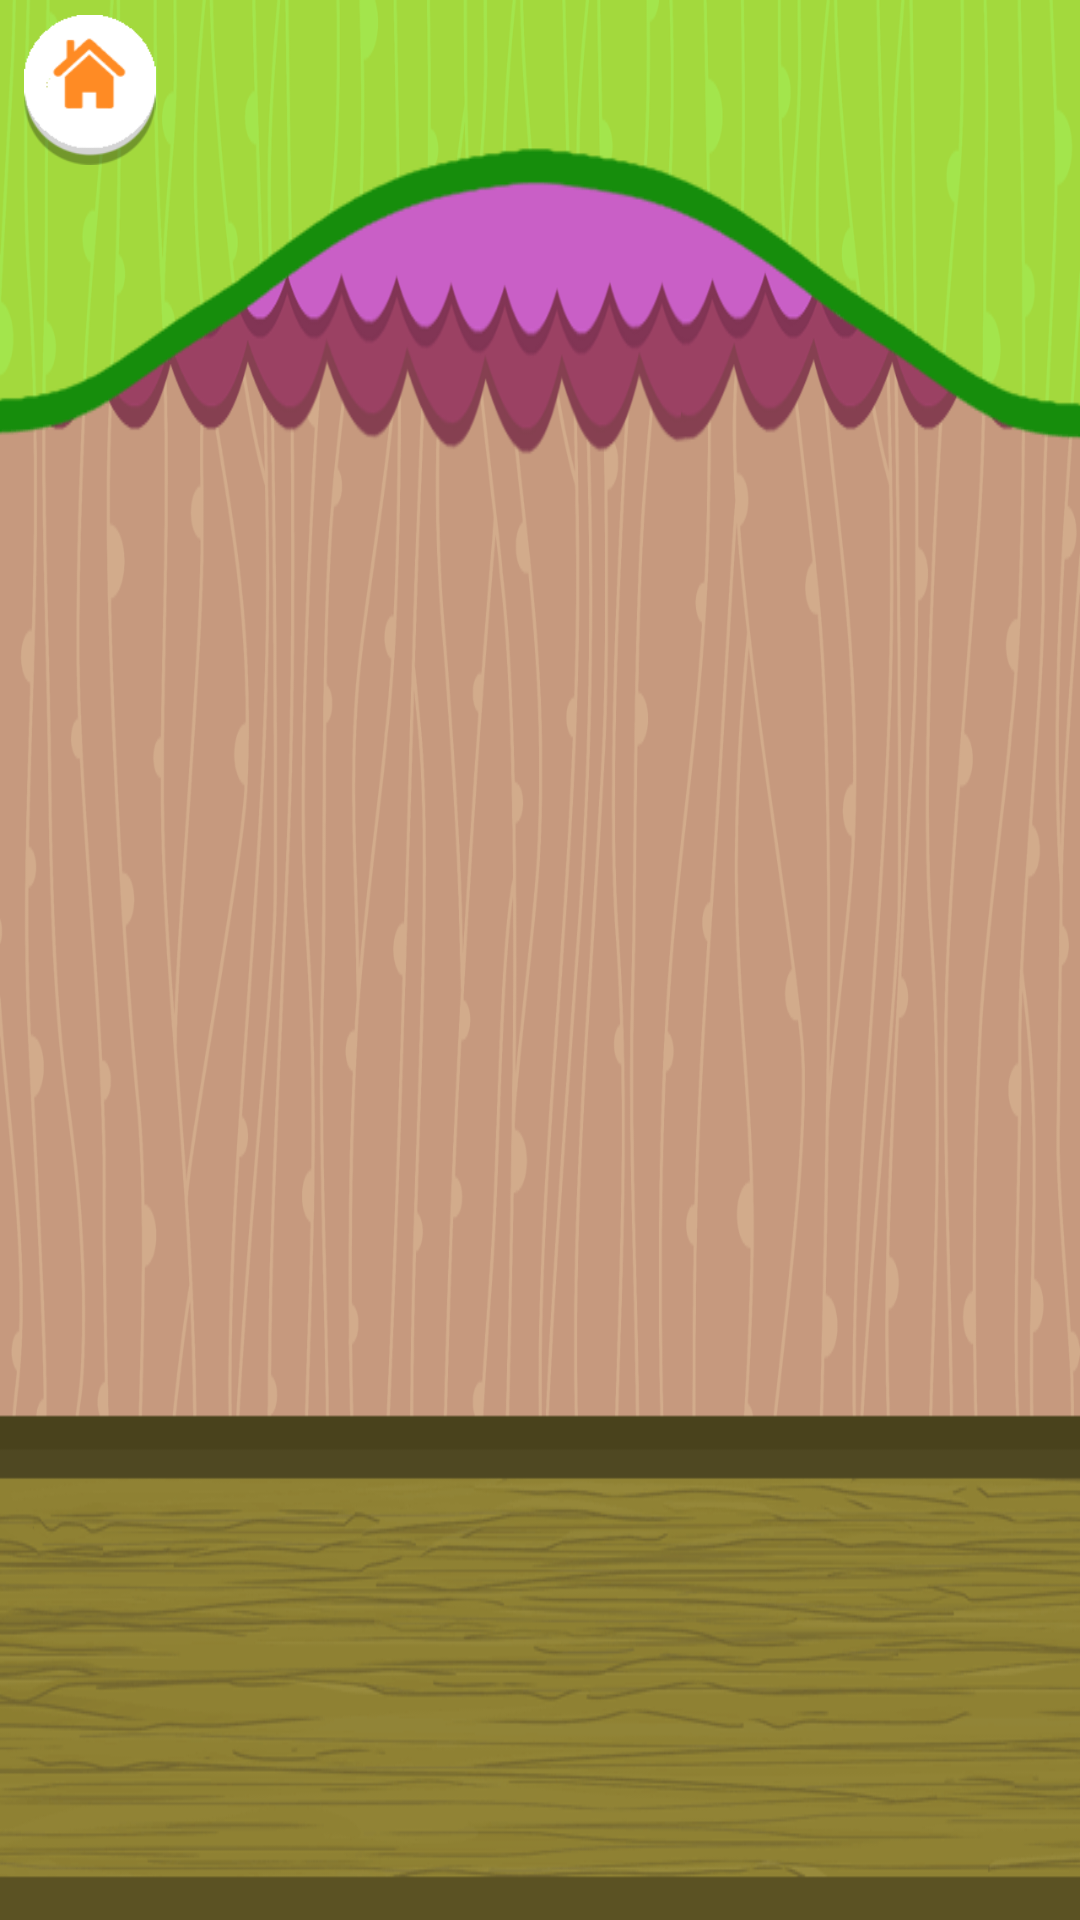

Screen size 1080×1920. Icon name, then its center in pixels as (x=x, y=y):
home: (x=90, y=90)
